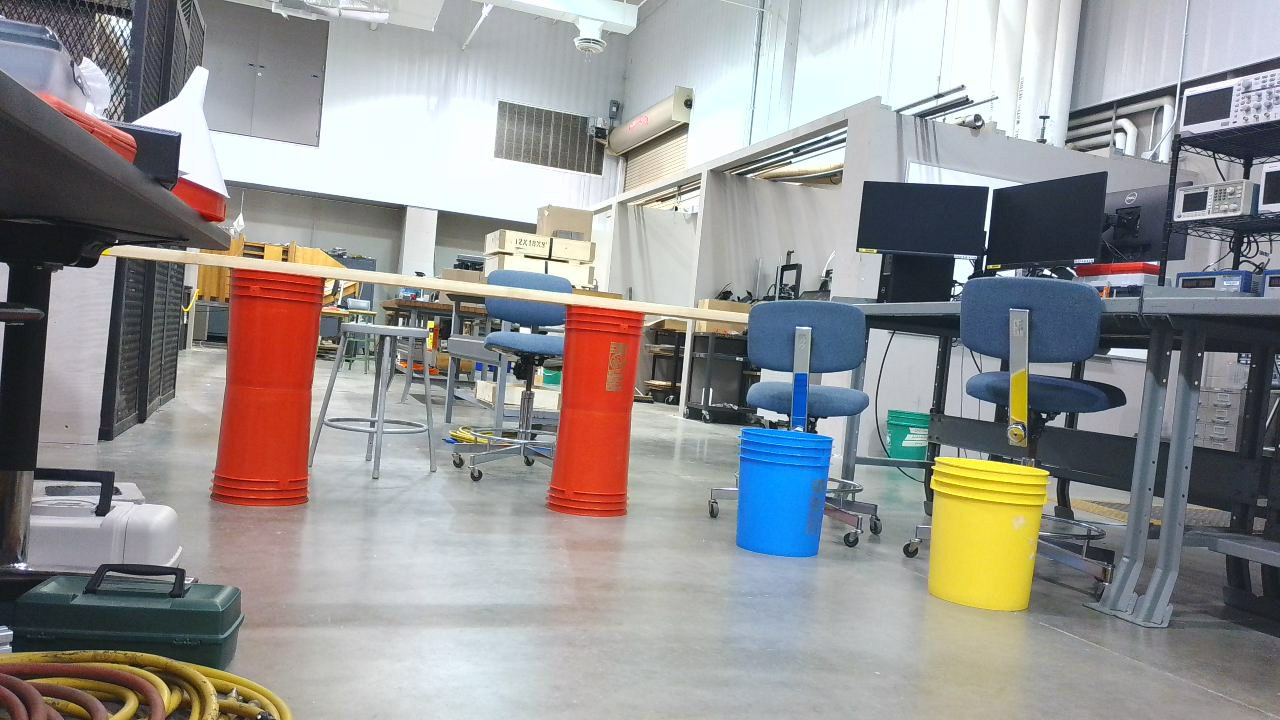blue_bucket: (738, 428, 842, 566)
red_bucket_arch: (209, 265, 656, 526)
yellow_bucket: (925, 454, 1059, 621)
